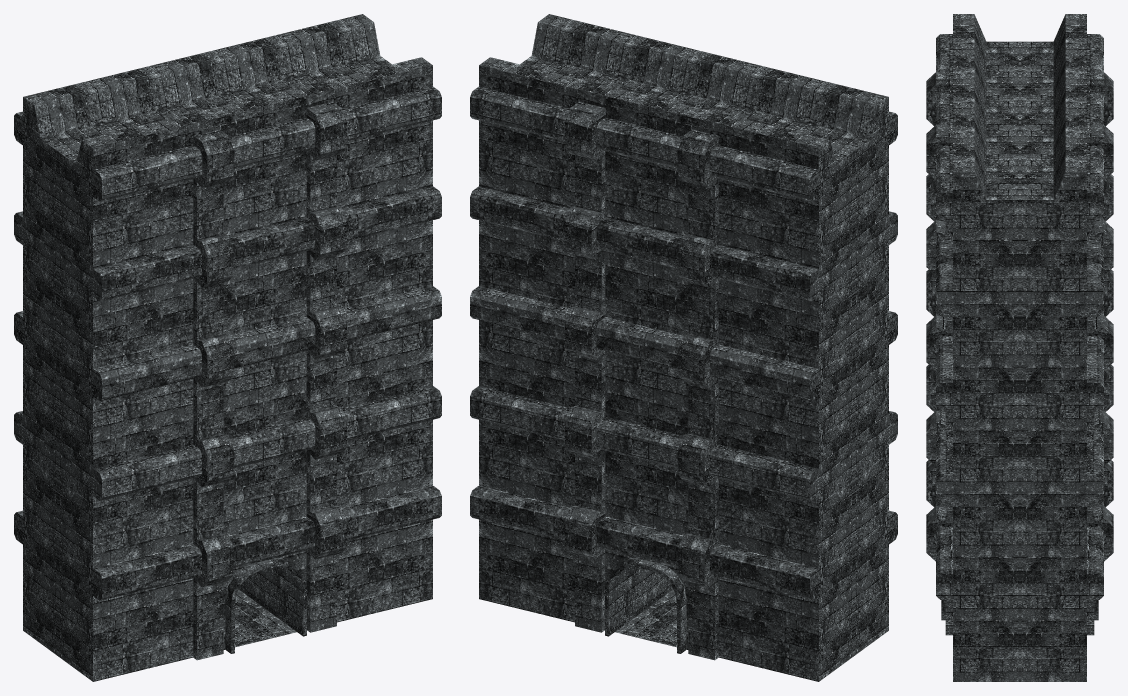
File: WallWithDoor.fbx
3 views of the same model, side by side, from view 1: azimuth 30°, elevation 25°; view 2: azimuth 150°, elevation 25°; view 3: azimuth 270°, elevation 25° (orthographic). The views are drawn at different scales.
Parts seen in each view (by area): view 1: WallWithDoor; view 2: WallWithDoor; view 3: WallWithDoor.
Boxes of the visible parts, box(x1,y1,x2,y2) form: WallWithDoor: box(14, 14, 441, 681); WallWithDoor: box(470, 14, 897, 681); WallWithDoor: box(926, 14, 1113, 681).
Bounding box in the file's own units: 2000 × 3000 × 1000.
1 material, 1 textured.
